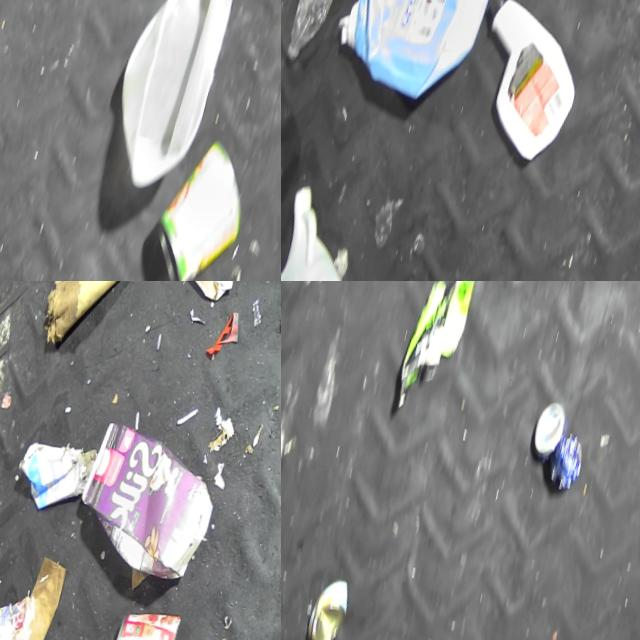can: (140, 134, 262, 281), (516, 386, 601, 518), (301, 570, 357, 640), (99, 602, 183, 640), (0, 584, 50, 640)
milk_jug: (96, 0, 253, 206), (281, 178, 390, 281)
non_white_jug: (64, 415, 229, 599), (320, 0, 528, 125), (281, 3, 308, 207), (175, 281, 276, 310)
plastic_bottle: (281, 0, 369, 71)
